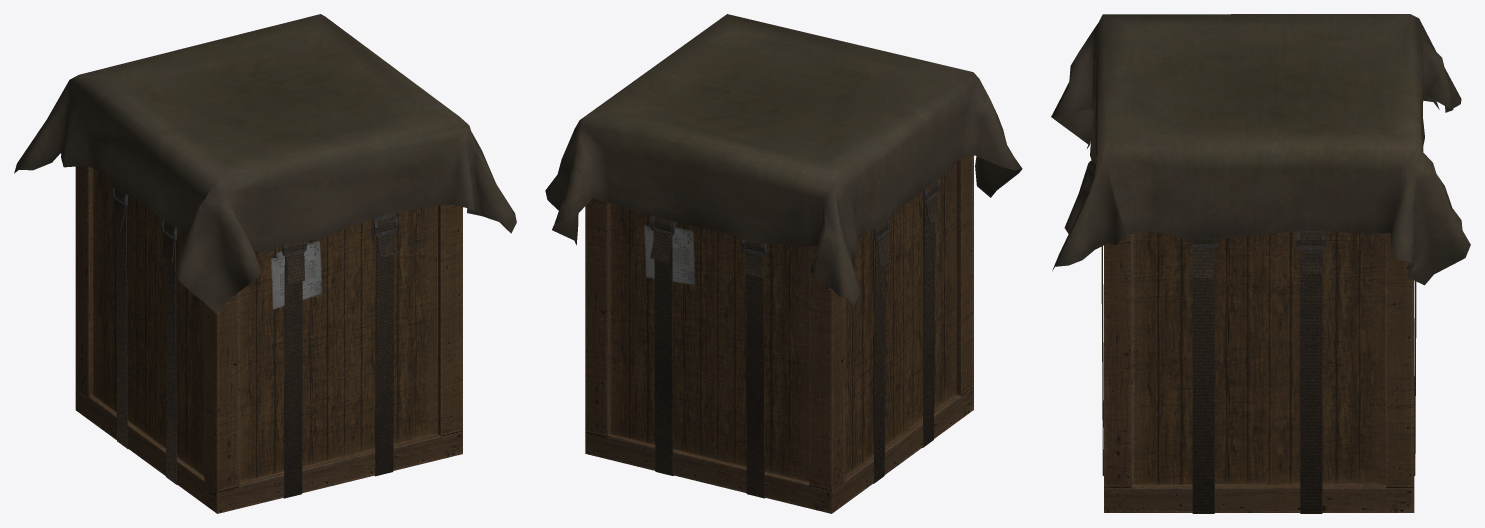
Rendered from wooden_crate_hx_4_2.obj.
3 renders of one model, left to right at view 1: azimuth 30°, elevation 25°; view 2: azimuth 150°, elevation 25°; view 3: azimuth 270°, elevation 25°, orthographic. The views are drawn at different scales.
Visible parts, largest first — view 1: wooden_crate_hx_4_2; view 2: wooden_crate_hx_4_2; view 3: wooden_crate_hx_4_2.
Boxes of the visible parts, bbox=[...] form: wooden_crate_hx_4_2: bbox=[14, 14, 516, 513]; wooden_crate_hx_4_2: bbox=[545, 14, 1022, 513]; wooden_crate_hx_4_2: bbox=[1051, 14, 1470, 513].
Bounding box in the file's own units: 1.89 × 1.84 × 1.89.
